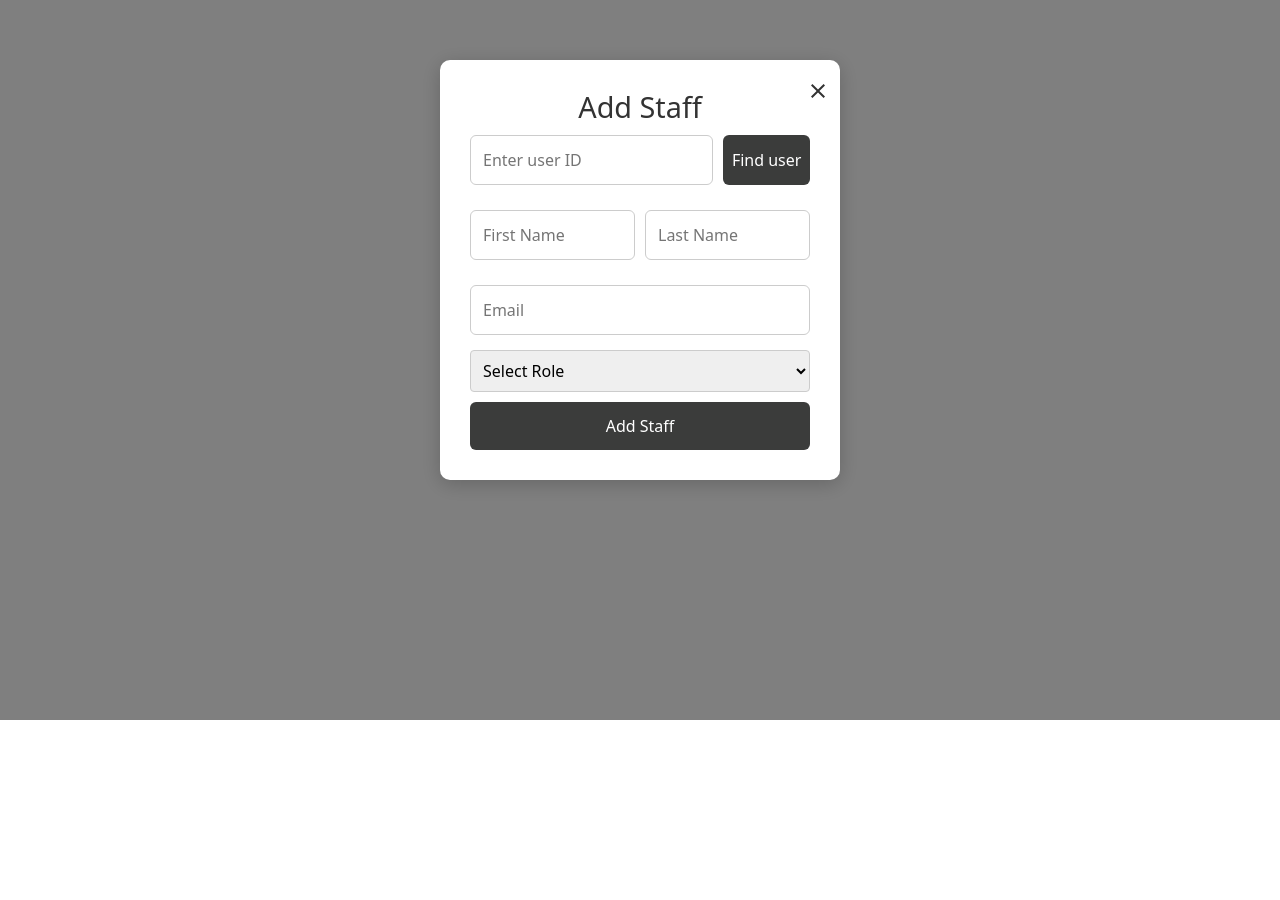
Test: AddStaffPopup › displays success notification after successful form submission
Fill out the form inputs
Type "123" into the field with test id "user-id-input" at x=592, y=160, box 470,135 -> 713,185
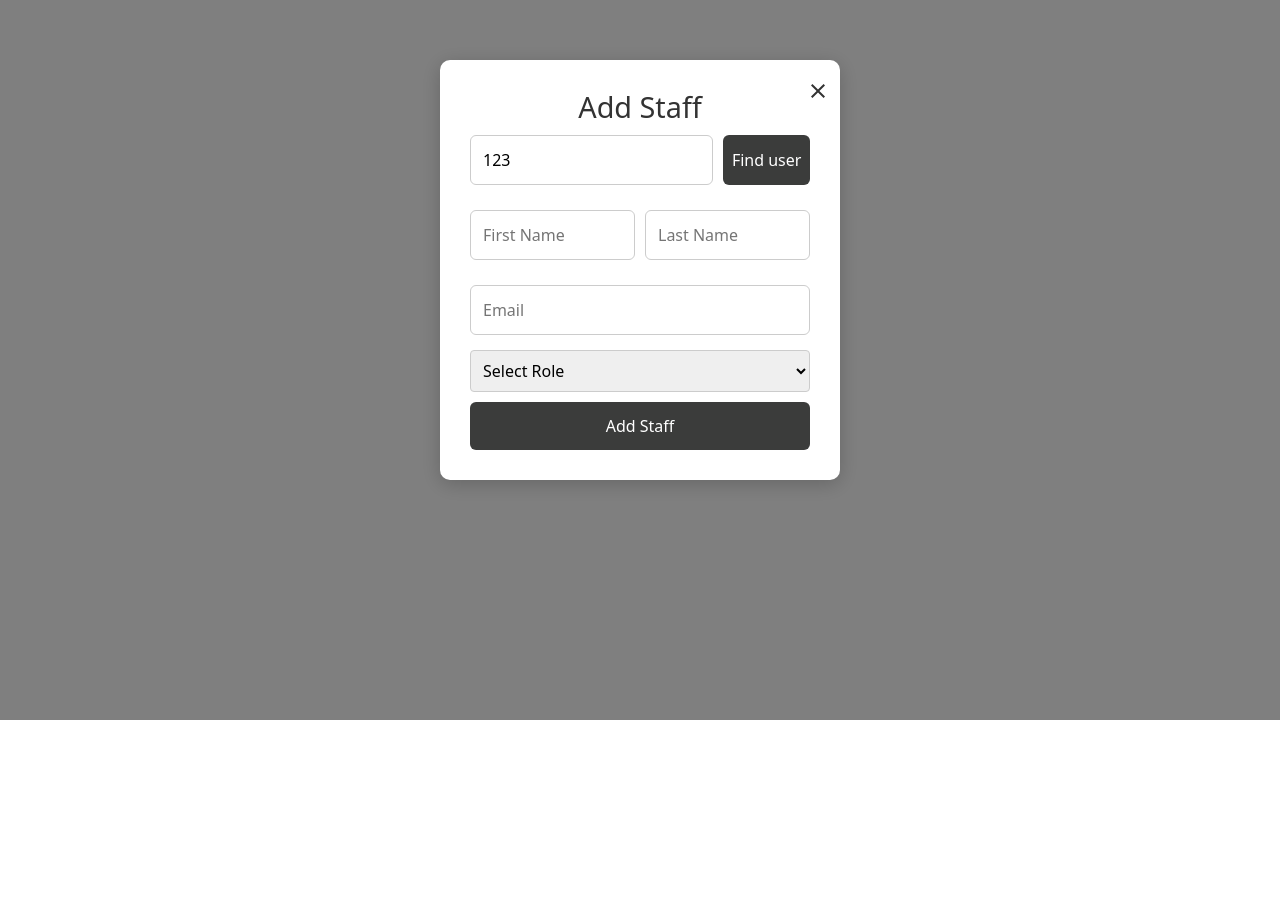
Select "Administrator" in the dropdown with test id "role-select" at x=640, y=371, box 470,350 -> 810,392
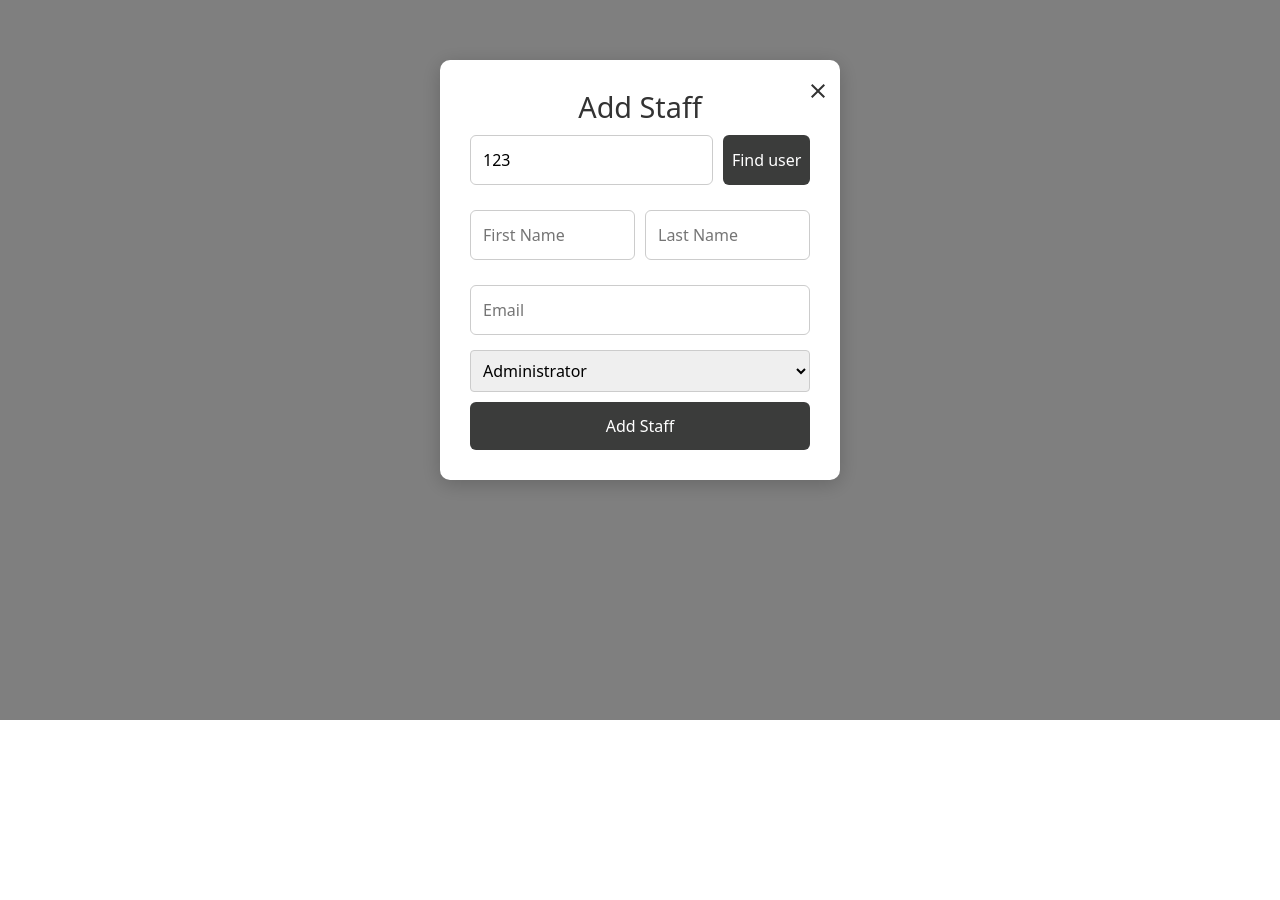
Click the button with test id "find-user-button" at x=767, y=160, box 723,135 -> 810,185
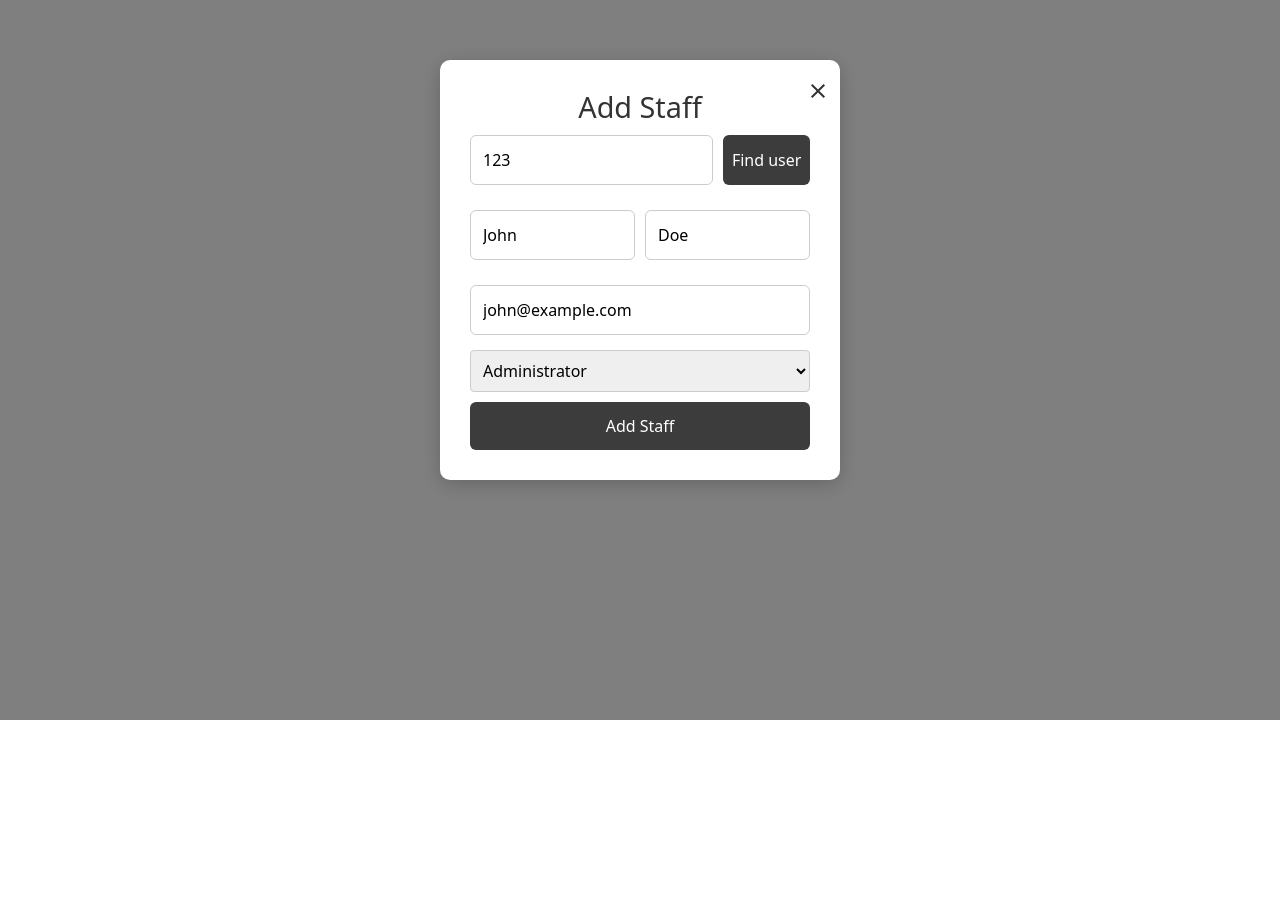
expect the field with test id "first-name-input" holds "John": met, box 470,210 -> 635,260
expect the field with test id "last-name-input" holds "Doe": met, box 645,210 -> 810,260
expect the field with test id "email-input" holds "john@example.com": met, box 470,285 -> 810,335
Submit the form
Click the button with test id "submit-button" at x=640, y=426, box 470,402 -> 810,450
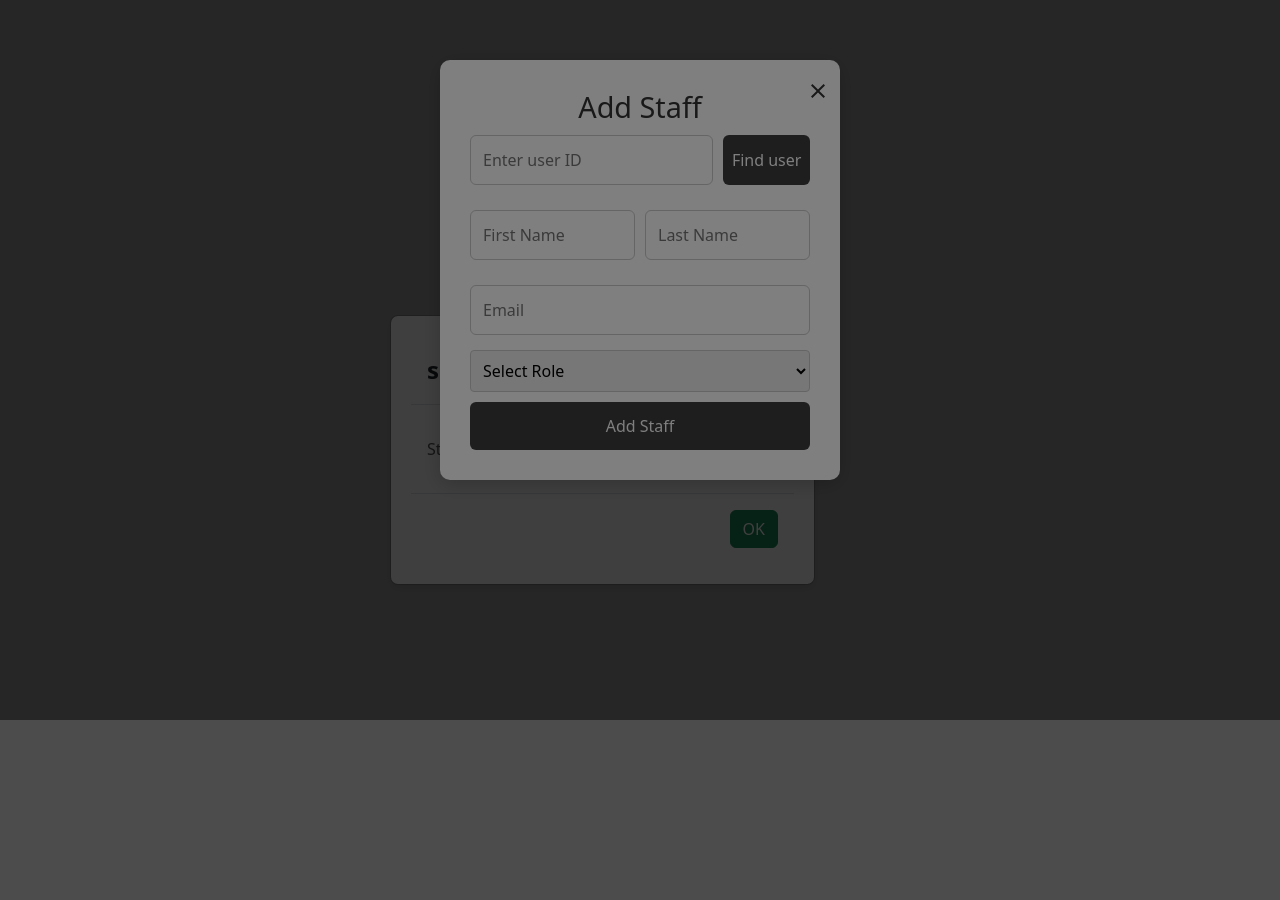
expect the element with test id "notification-modal" is shown: met, box 390,315 -> 815,585
expect the text "Staff Added Successfully." is shown: met, box 427,438 -> 612,460
